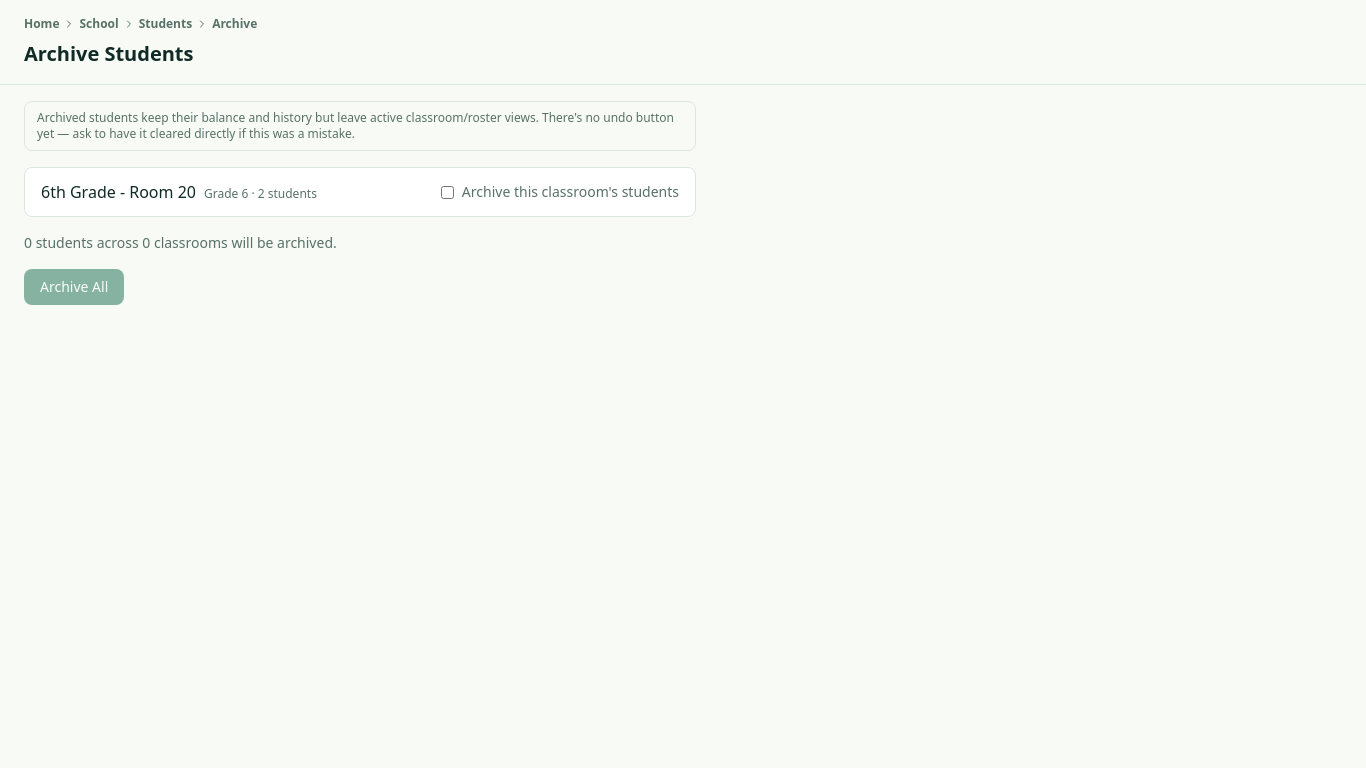
Test: ArchiveStudentsPage › archives the checked classroom via bulkArchiveStudents
Click the checkbox: (447, 192) [441, 186, 454, 198]
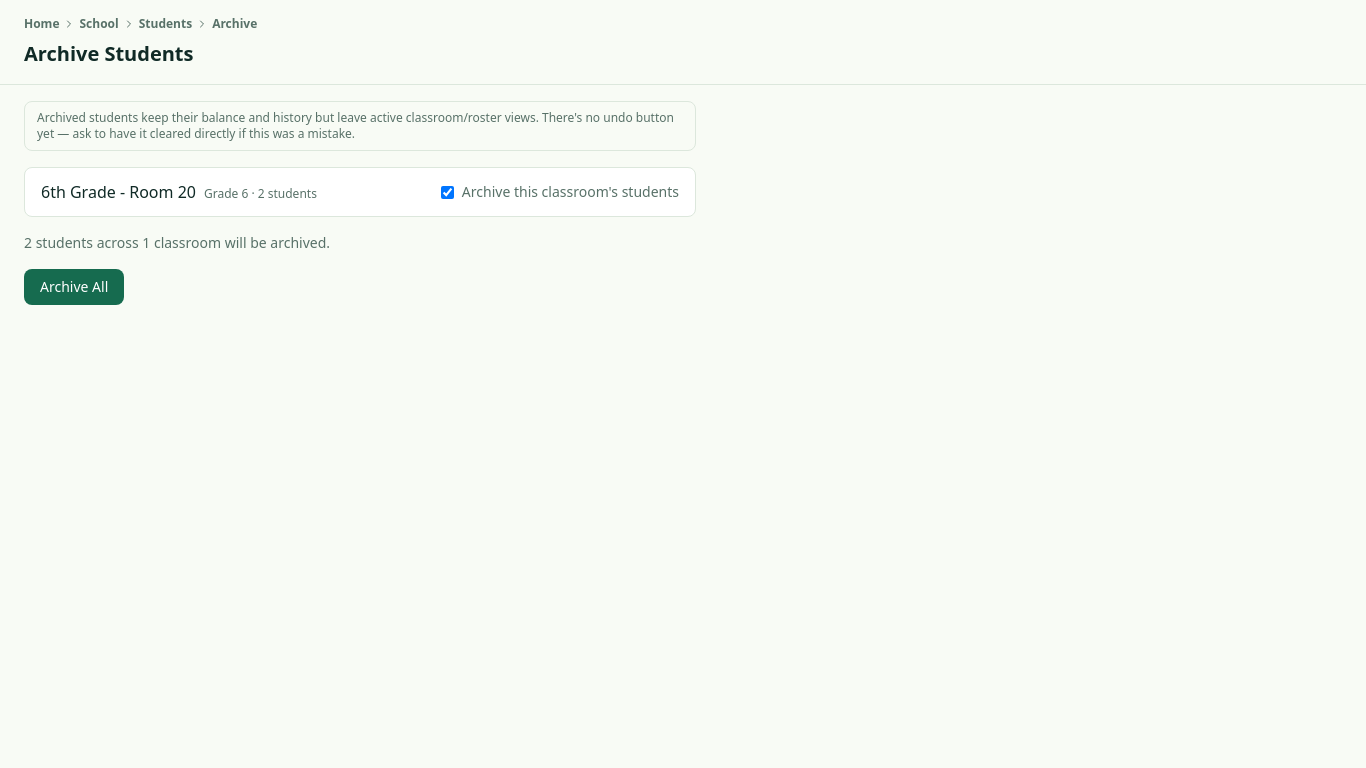
Click the button "Archive All": (74, 287) [24, 269, 124, 305]
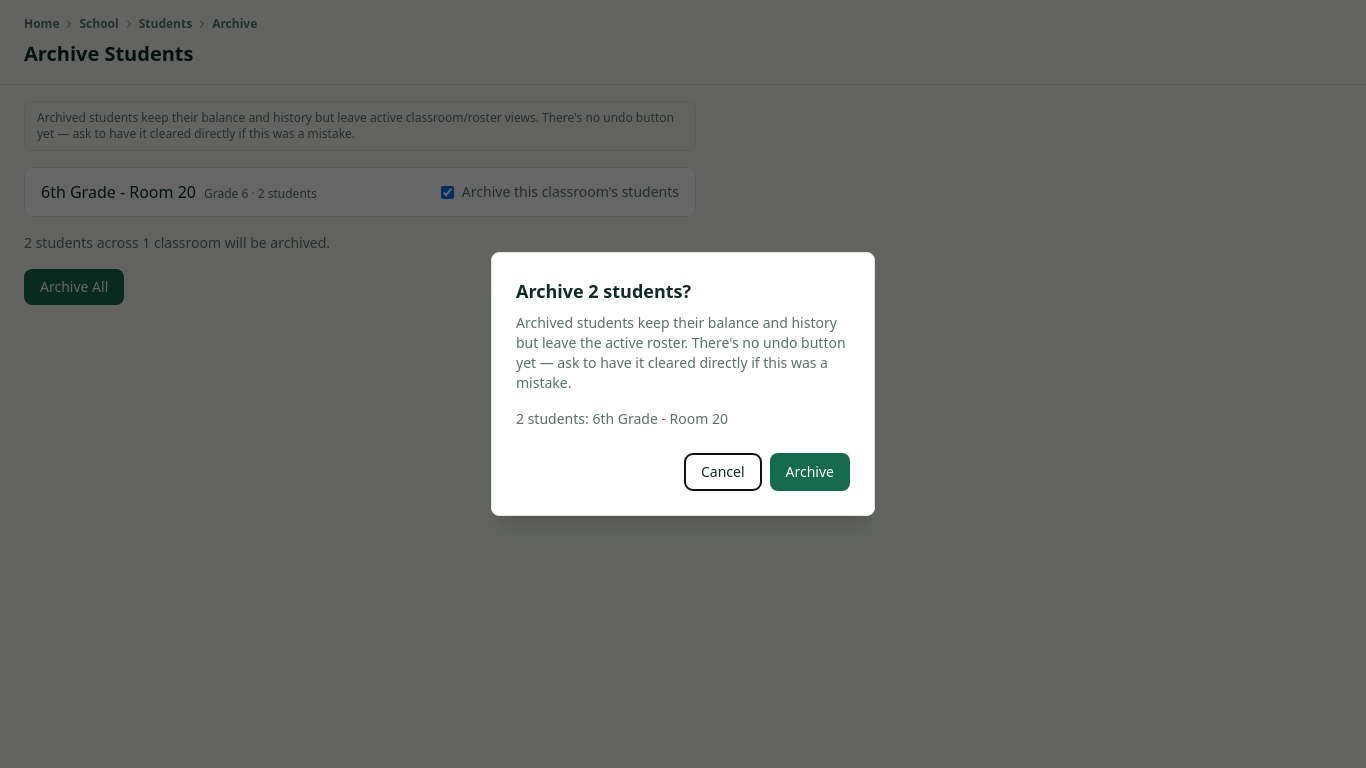
Click the button "Archive": (810, 472) [770, 453, 850, 491]
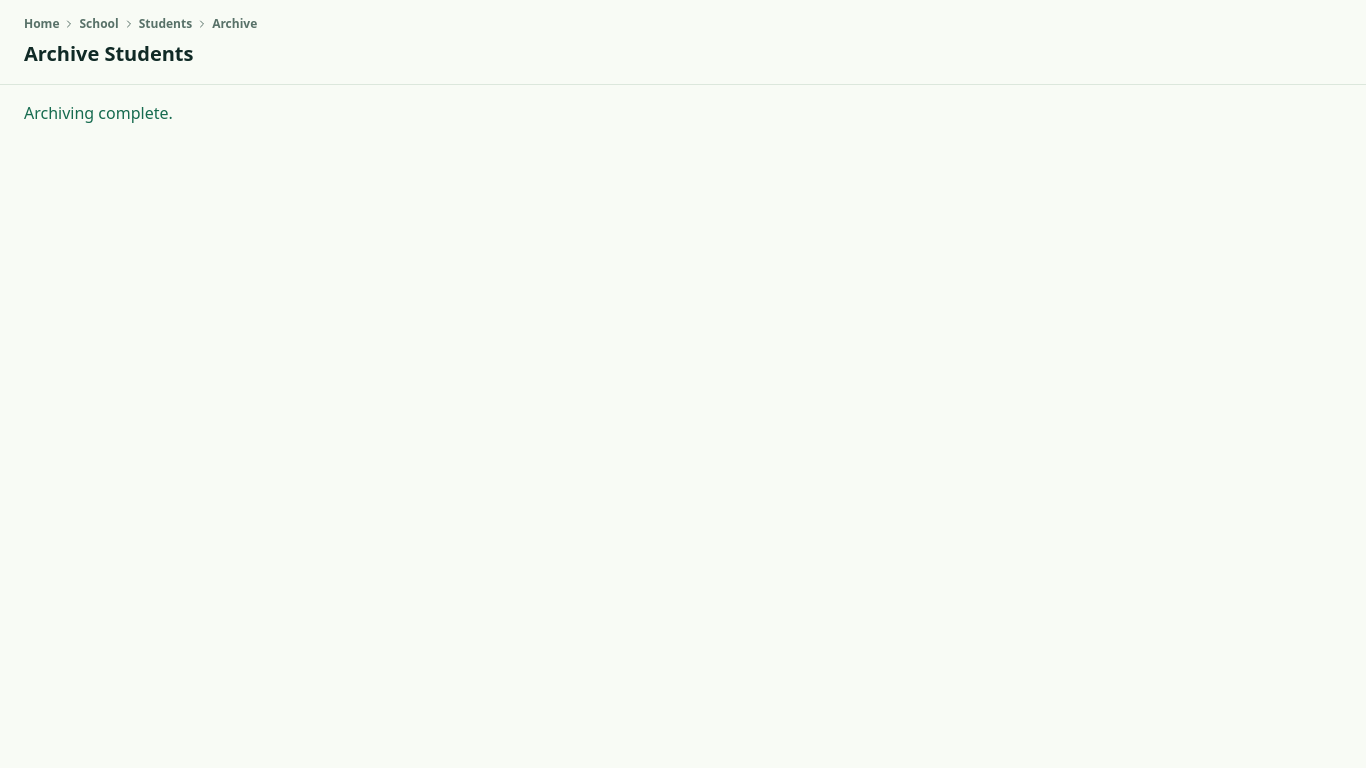
Check: the text "Archiving complete." is shown, box [24, 101, 173, 125]
